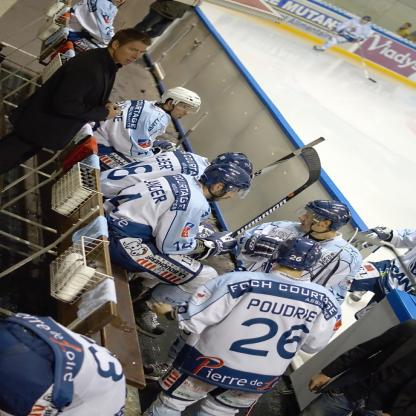Helmet: (201, 162, 252, 202), (308, 200, 356, 236), (269, 235, 323, 267), (158, 86, 201, 115), (212, 151, 252, 177)
